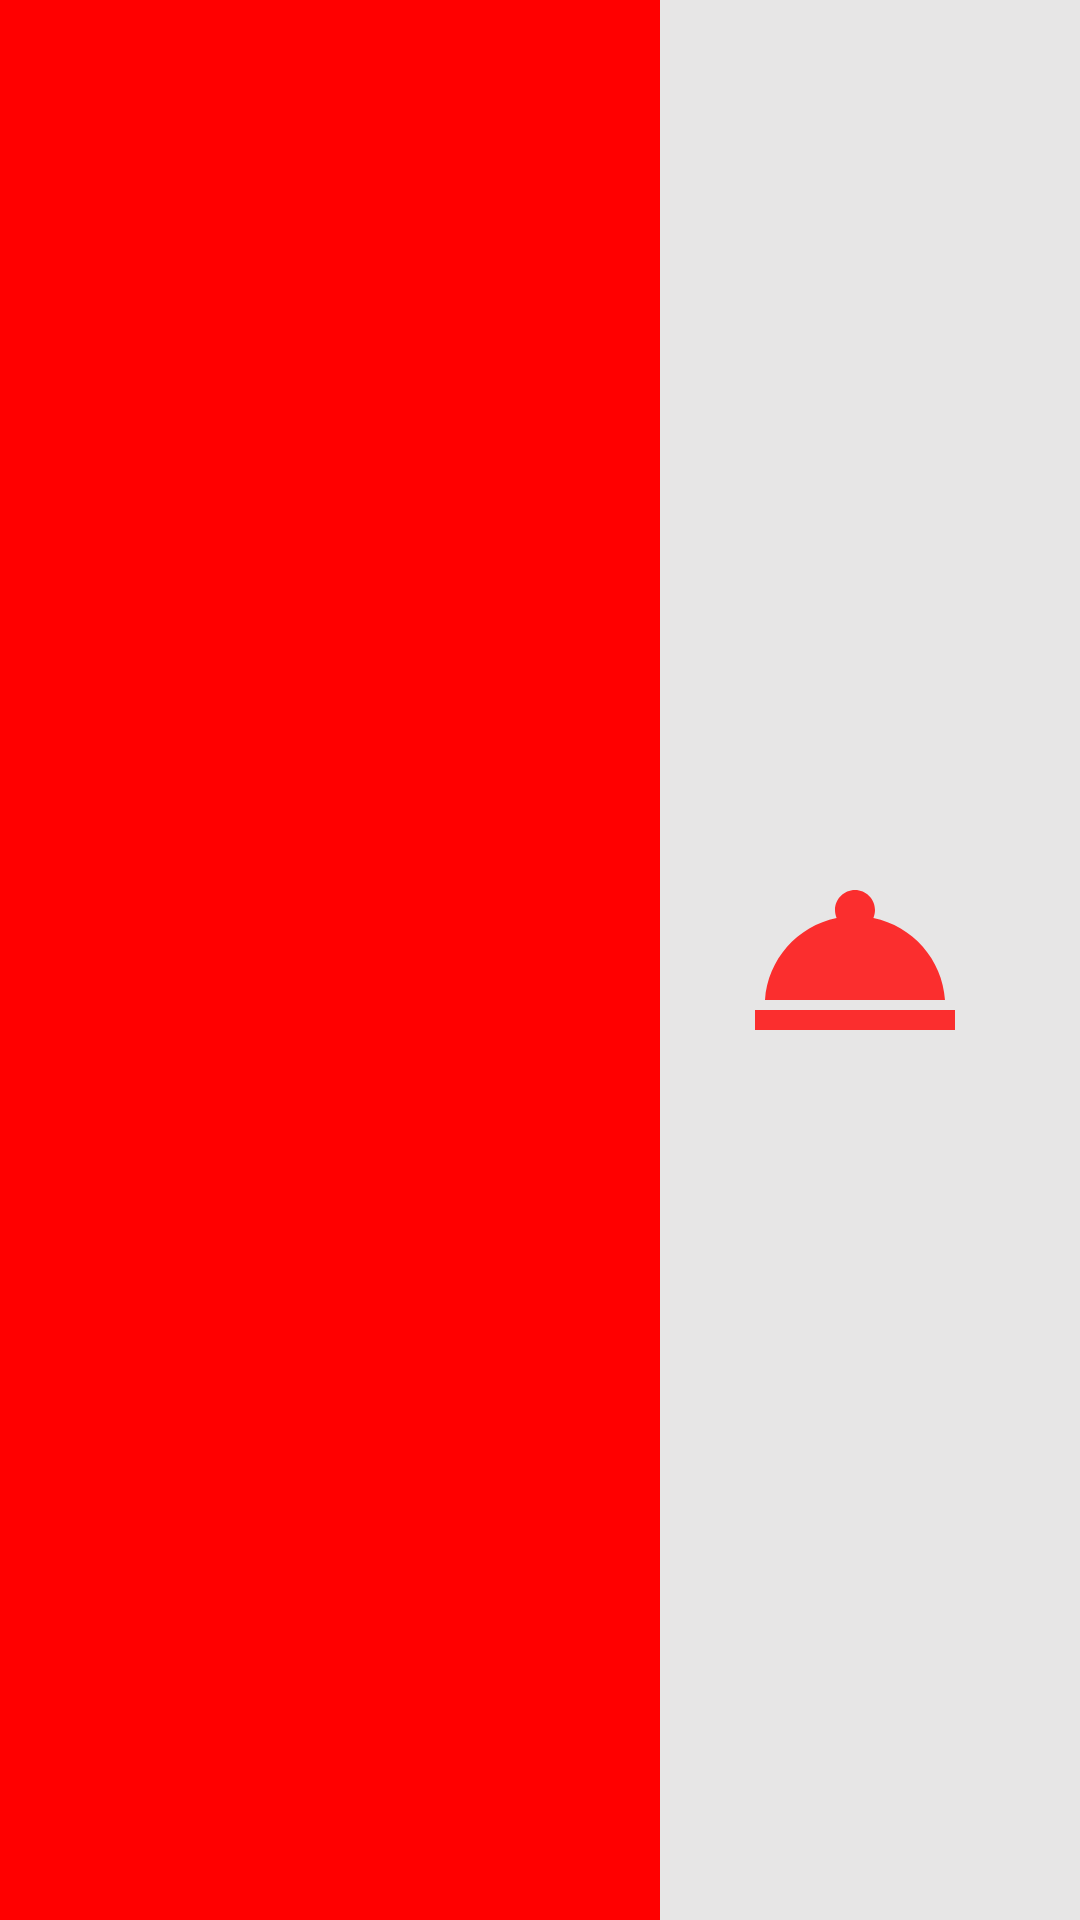

Where icons sit on this 1080 × 1920 app screen, as (x1, y1, x2, y2):
meal: (755, 890, 955, 1030)
